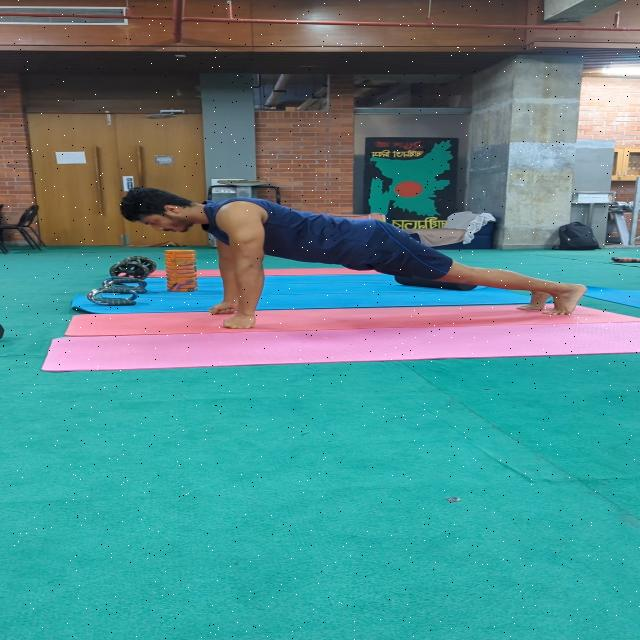Normal_PushUps: (110, 176, 590, 346)
